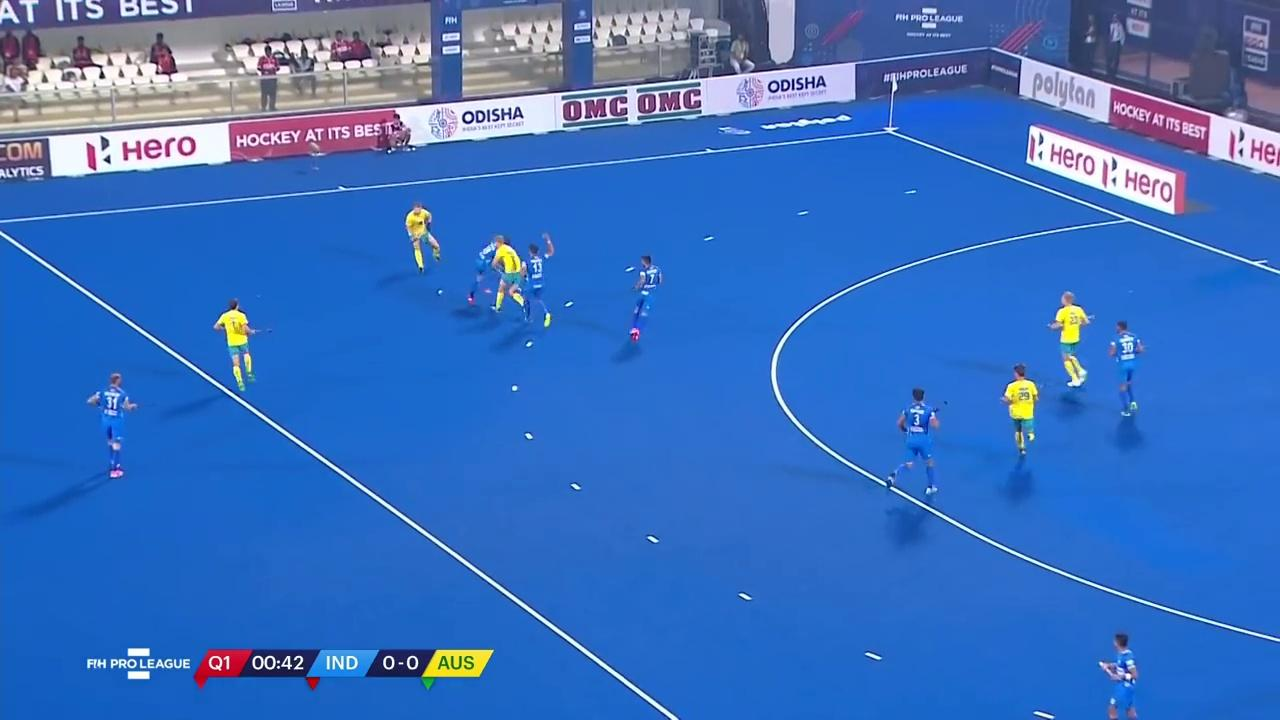ball: (435, 287, 446, 297)
